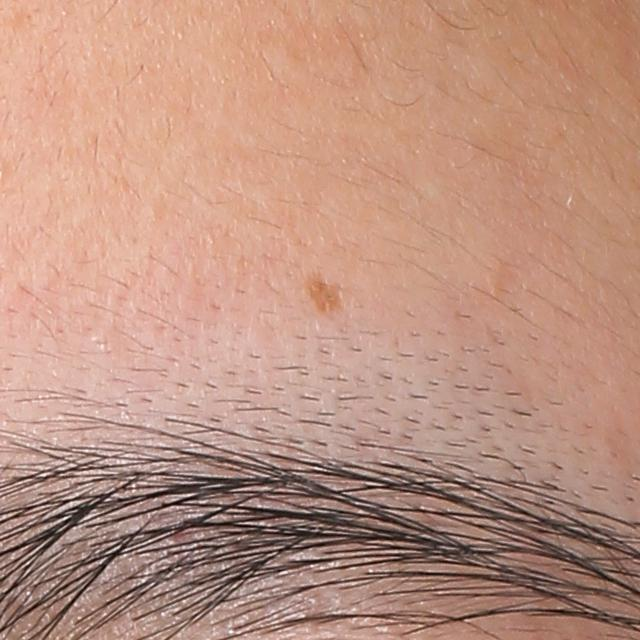melasma: (301, 266, 349, 321)
